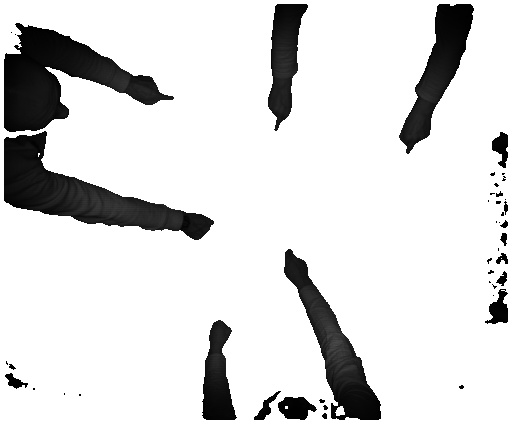fist: (185, 213, 215, 239), (208, 320, 231, 347)
hand: (392, 112, 439, 159), (133, 74, 175, 111), (264, 86, 295, 135), (280, 248, 311, 284)
